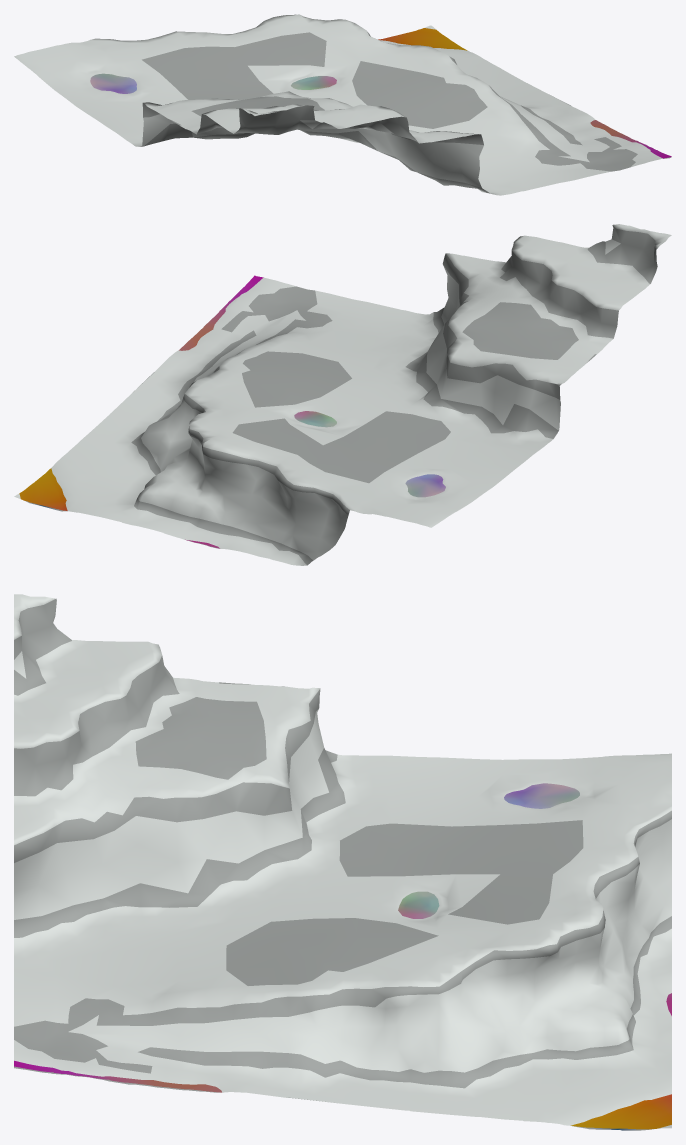
3 renders of one model, top to bottom at view 1: azimuth 30°, elevation 25°; view 2: azimuth 150°, elevation 25°; view 3: azimuth 270°, elevation 25°, orthographic. The views are drawn at different scales.
Parts seen in each view (by area): view 1: G:\FFXIV-MapTools\exports\r2f1\bg\ex1\01_roc_r2\fld\r2f1\bgp (×6); view 2: G:\FFXIV-MapTools\exports\r2f1\bg\ex1\01_roc_r2\fld\r2f1\bgp (×6); view 3: G:\FFXIV-MapTools\exports\r2f1\bg\ex1\01_roc_r2\fld\r2f1\bgp (×6).
Boxes of the visible parts, x1,y1,x2,y2 form: G:\FFXIV-MapTools\exports\r2f1\bg\ex1\01_roc_r2\fld\r2f1\bgp (×6): [14, 14, 671, 195]; G:\FFXIV-MapTools\exports\r2f1\bg\ex1\01_roc_r2\fld\r2f1\bgp (×6): [14, 224, 671, 565]; G:\FFXIV-MapTools\exports\r2f1\bg\ex1\01_roc_r2\fld\r2f1\bgp (×6): [14, 594, 671, 1129].
Size of the model in its own units: 128 by 55.75 by 128.
